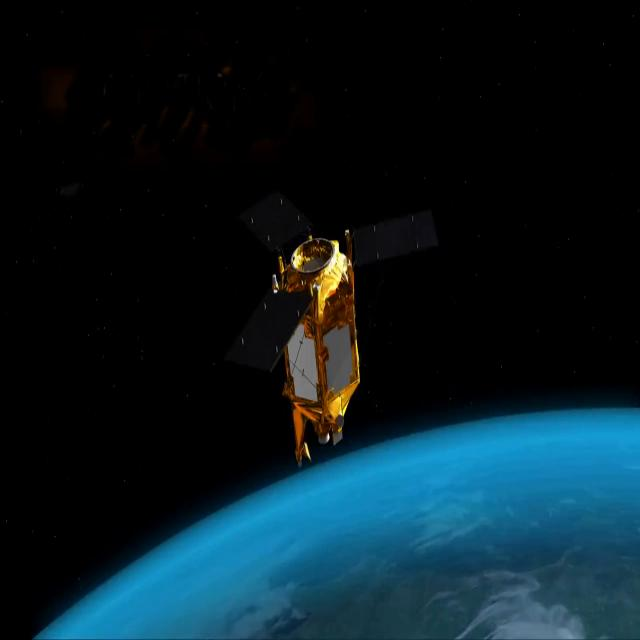medium_debris: (263, 188, 383, 510)
